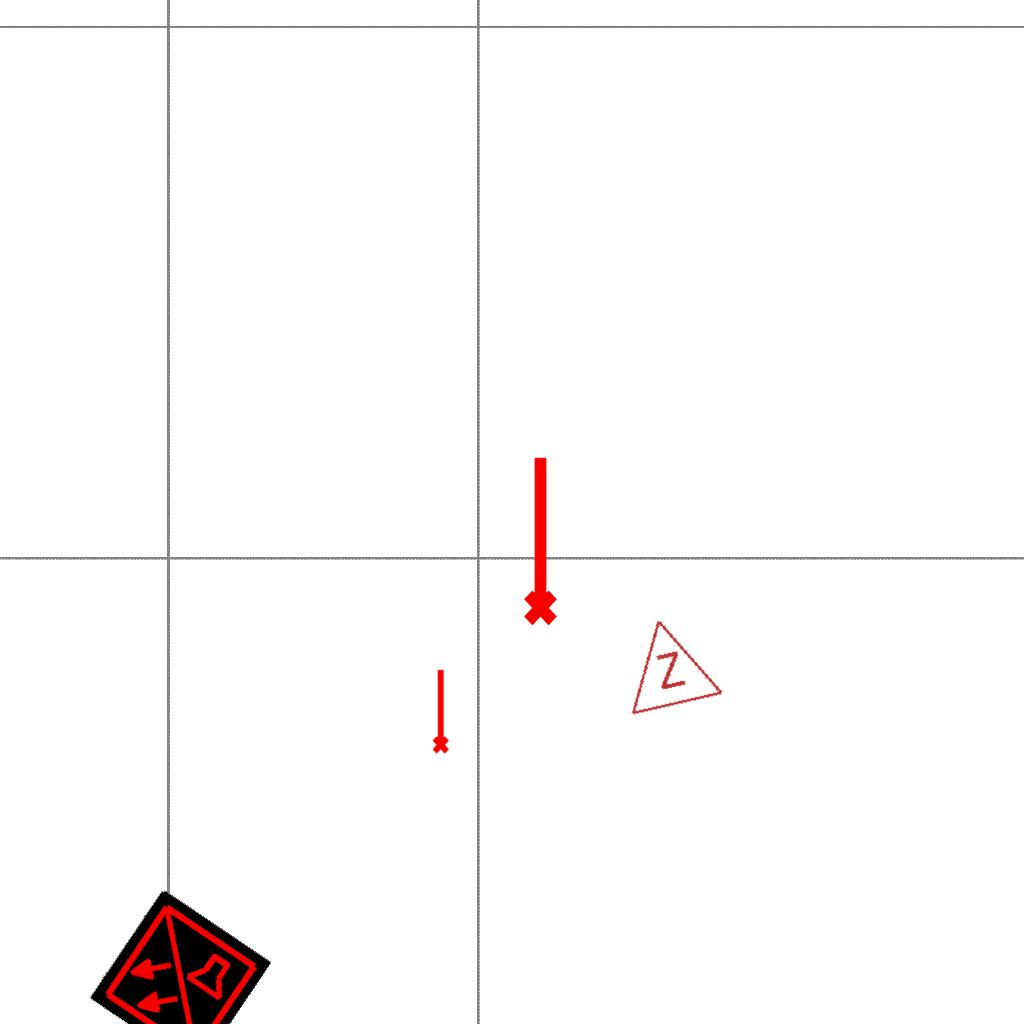ASR_Ansaugoeffnung: (515, 452, 561, 628), (428, 667, 451, 755)
OKW_Multisensormelder_(Kombination_optischer_Rauch-Kahlenmonoxid_Waerme-Melder): (88, 888, 272, 1024)
Zimmersignalleuchte: (608, 603, 726, 723)
